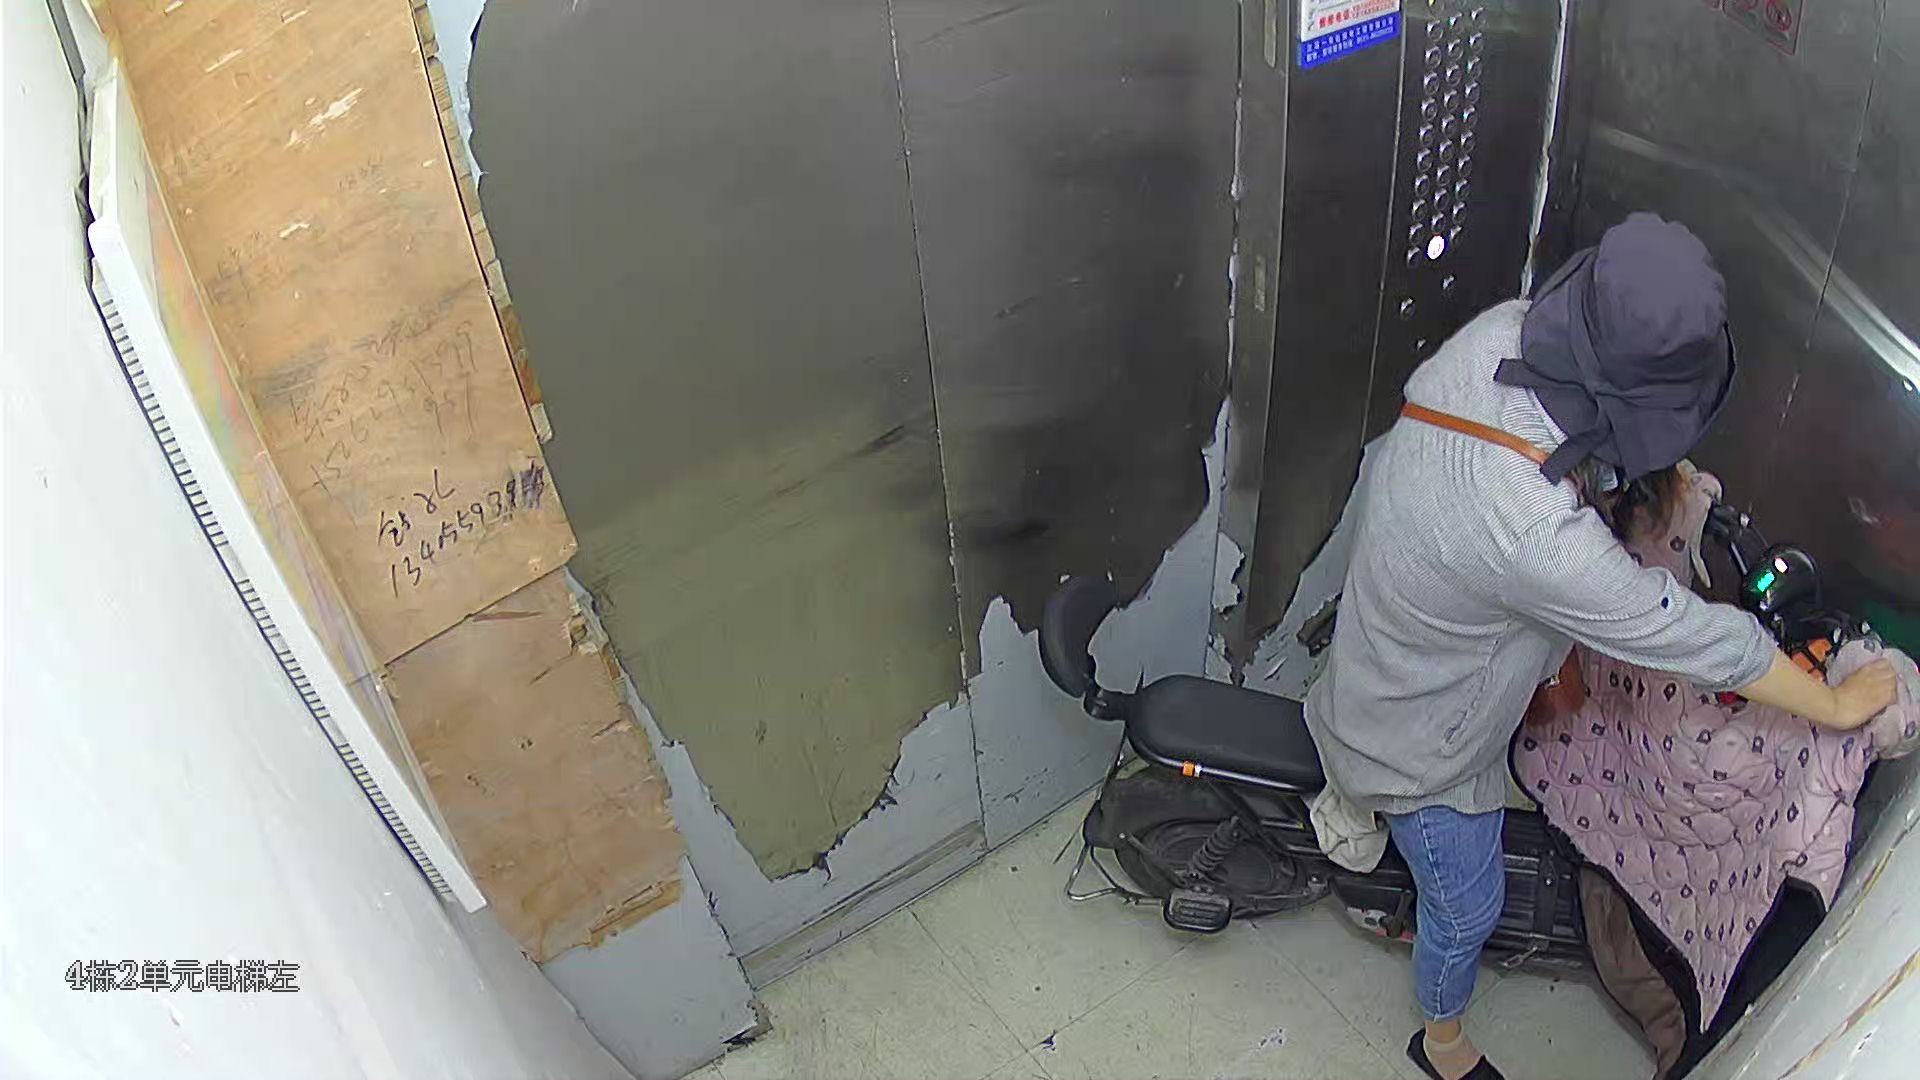Electric-bicycle: (1033, 465, 1920, 963)
